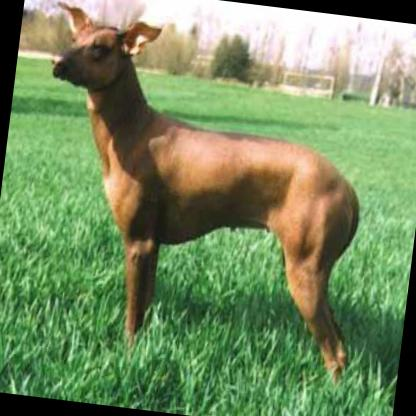Mexican_hairless: (17, 0, 386, 376)
